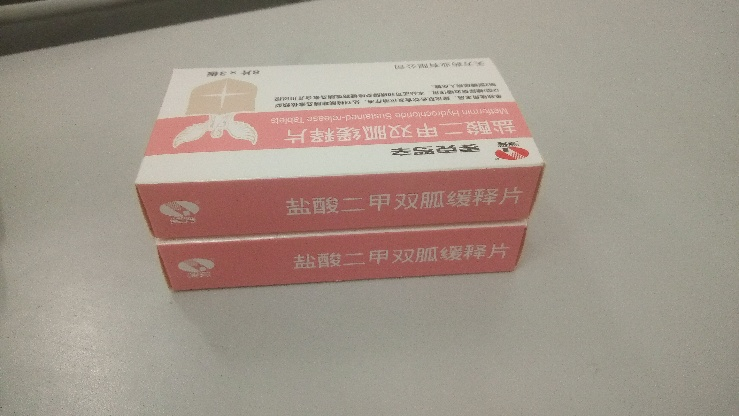pillbox: (139, 59, 535, 224), (153, 226, 522, 293)
